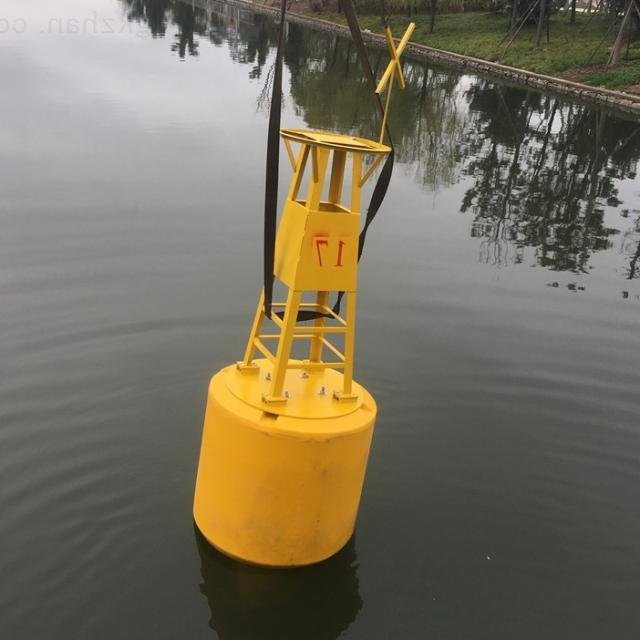buoy: (189, 18, 420, 568)
